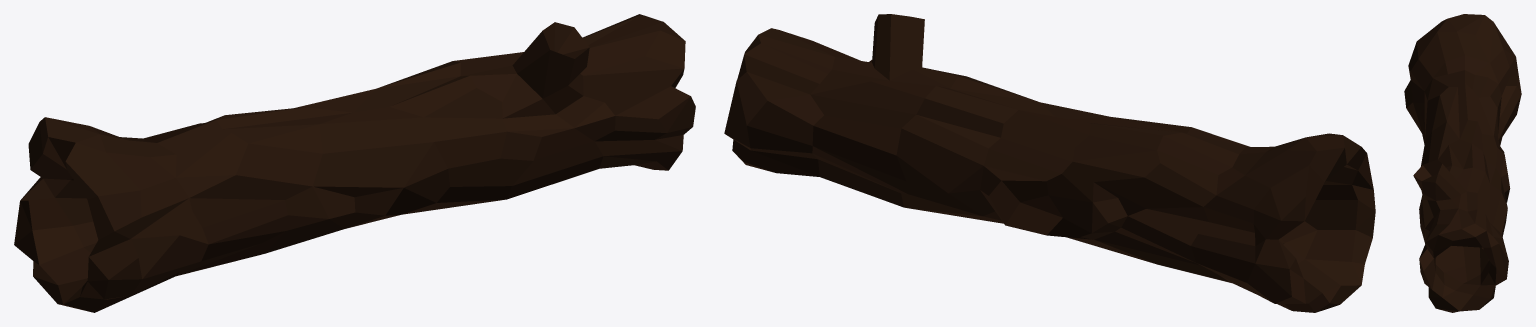
File: shugandao.FBX
3 renders of one model, left to right at view 1: azimuth 30°, elevation 25°; view 2: azimuth 150°, elevation 25°; view 3: azimuth 270°, elevation 25°, orthographic. The views are drawn at different scales.
Visible parts, largest first — view 1: log:Group11268_lambert1.003_0; view 2: log:Group11268_lambert1.003_0; view 3: log:Group11268_lambert1.003_0.
Boxes of the visible parts, box(x1,y1,x2,y2) form: log:Group11268_lambert1.003_0: box(14, 14, 695, 312); log:Group11268_lambert1.003_0: box(724, 14, 1375, 312); log:Group11268_lambert1.003_0: box(1404, 14, 1521, 312).
Bounding box in the file's own units: 51.1 × 14.14 × 12.97.
